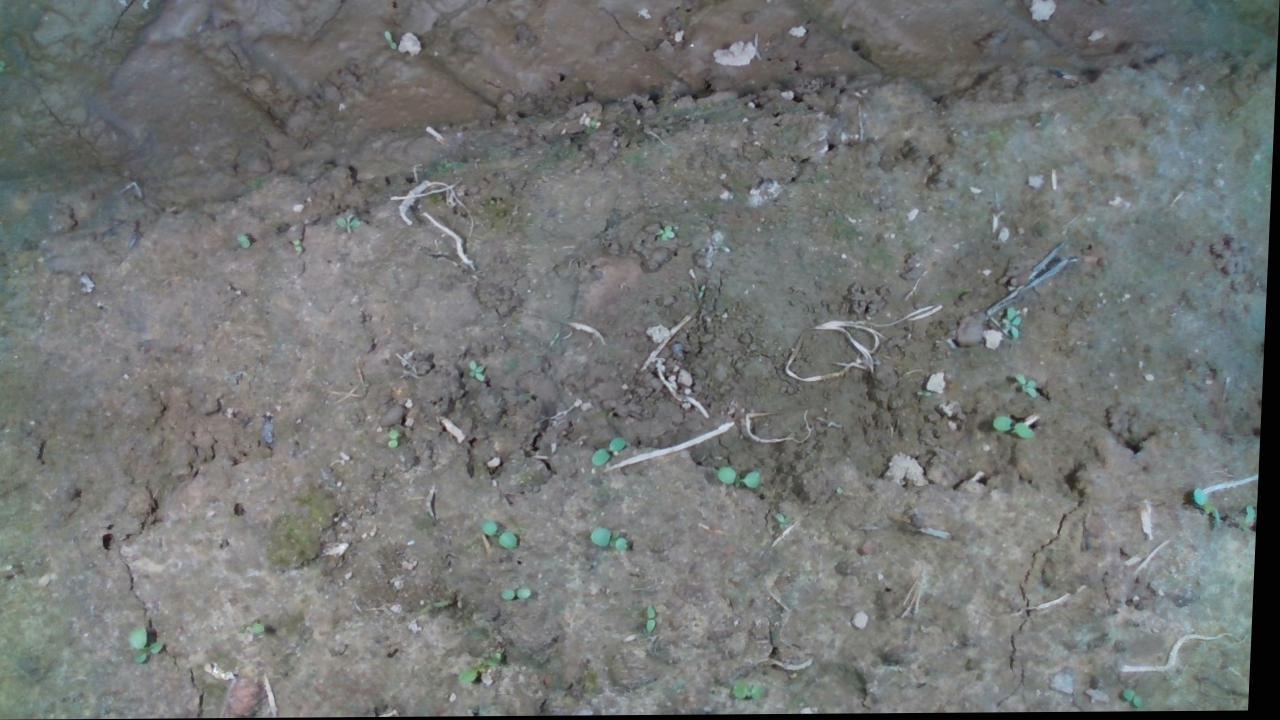weed: (127, 622, 177, 670), (481, 515, 530, 551), (592, 522, 639, 558), (717, 460, 766, 491), (993, 411, 1041, 442), (997, 305, 1032, 336), (592, 434, 623, 466), (643, 603, 668, 640), (502, 582, 544, 604), (334, 212, 371, 235), (1018, 371, 1042, 399), (388, 427, 411, 455), (471, 359, 494, 383), (656, 221, 678, 240)
